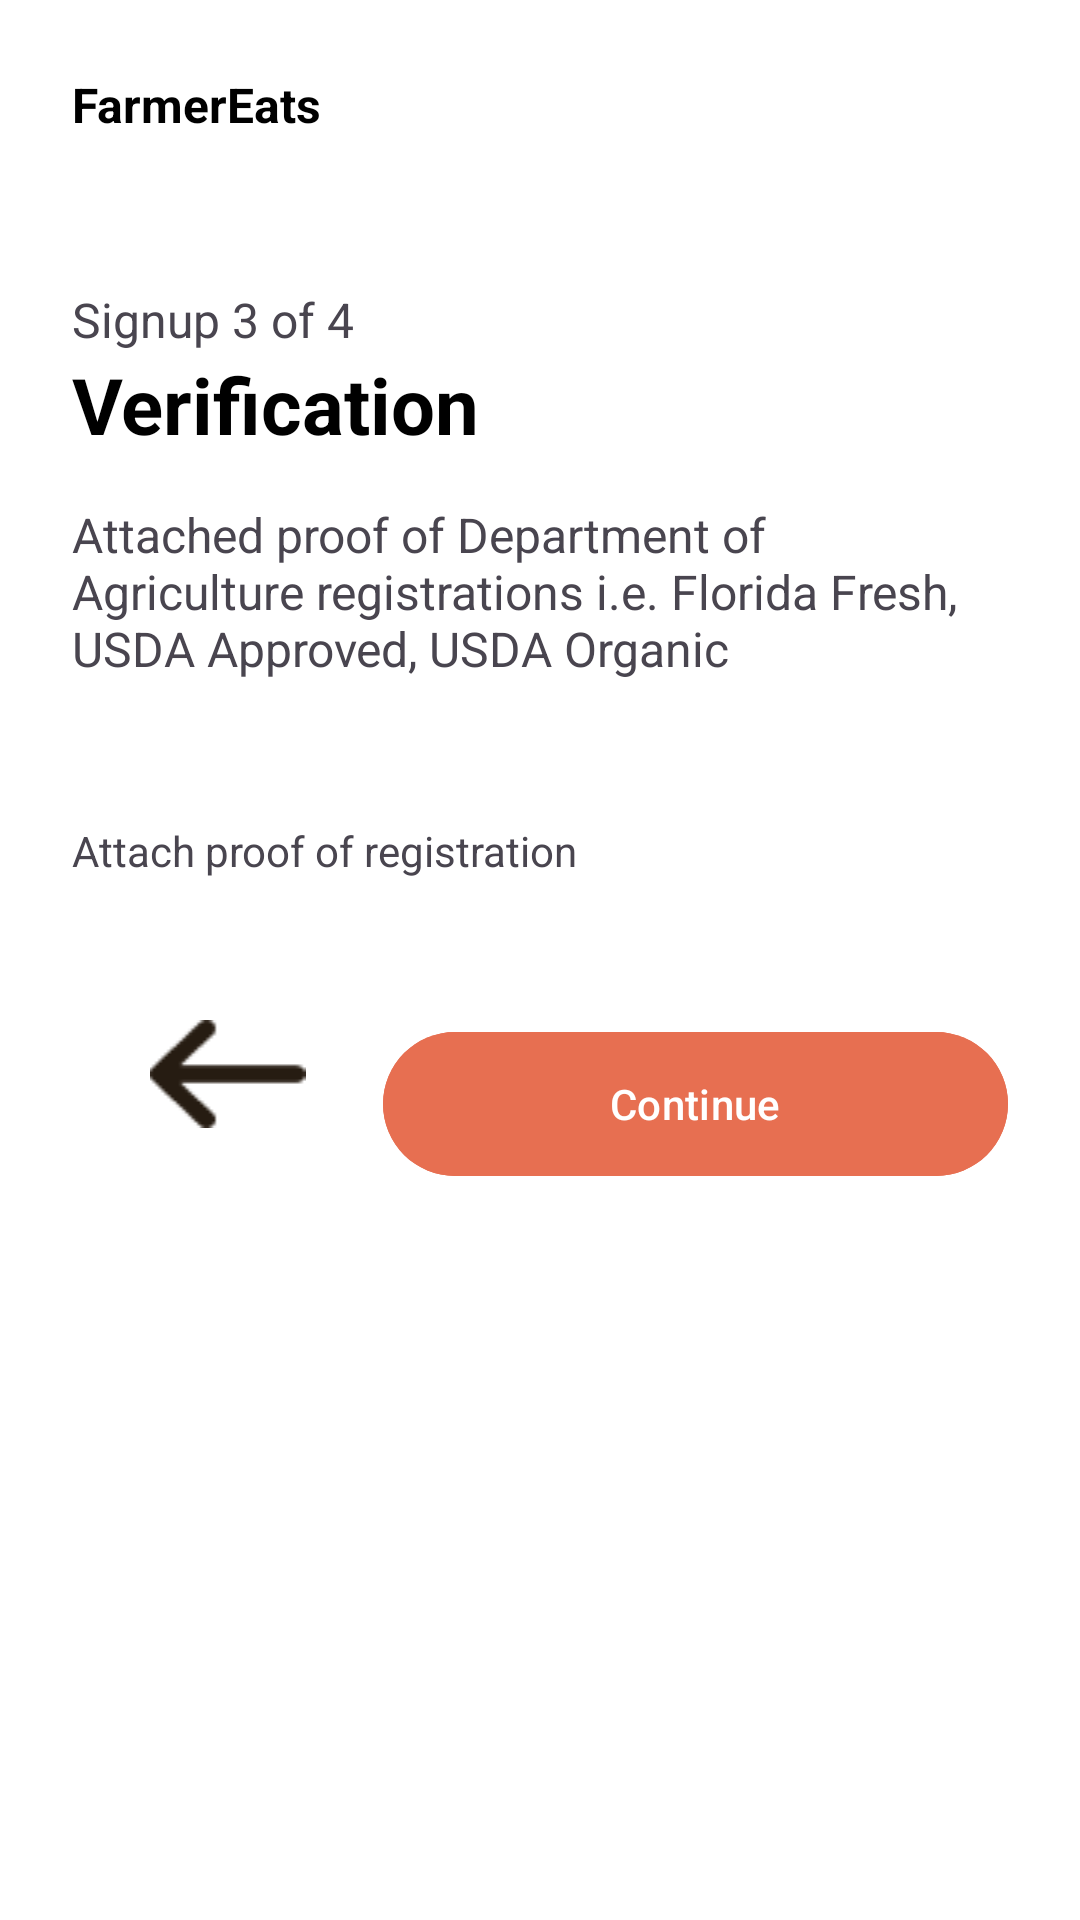

Icons on this 1080*1920 Android screen, each with the point to tap as [x,y]:
back: [228,1074]
